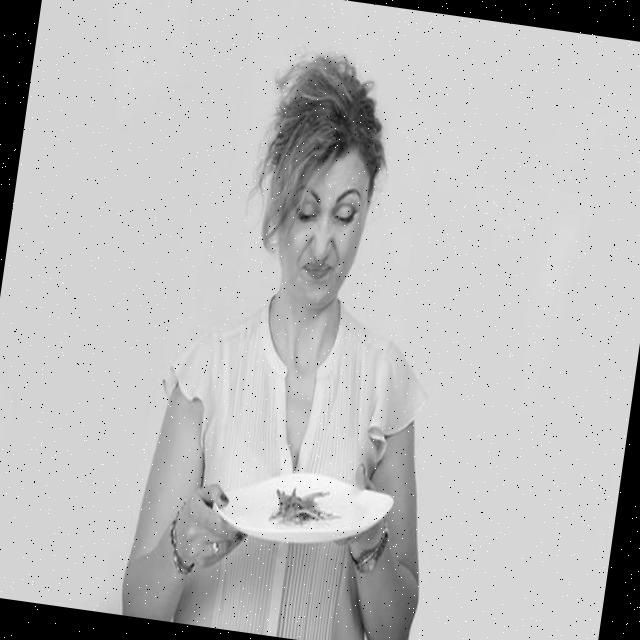Disgust: (270, 140, 380, 318)
